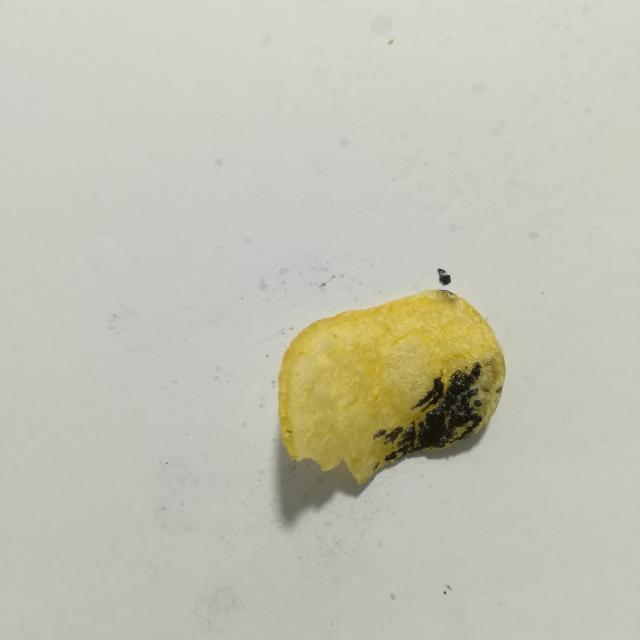chip: (278, 290, 505, 484)
damaged: (385, 362, 483, 462), (411, 377, 444, 411), (385, 426, 403, 443), (437, 268, 451, 285), (373, 429, 386, 440), (374, 462, 380, 471)
semi-damaged: (479, 352, 505, 428)
